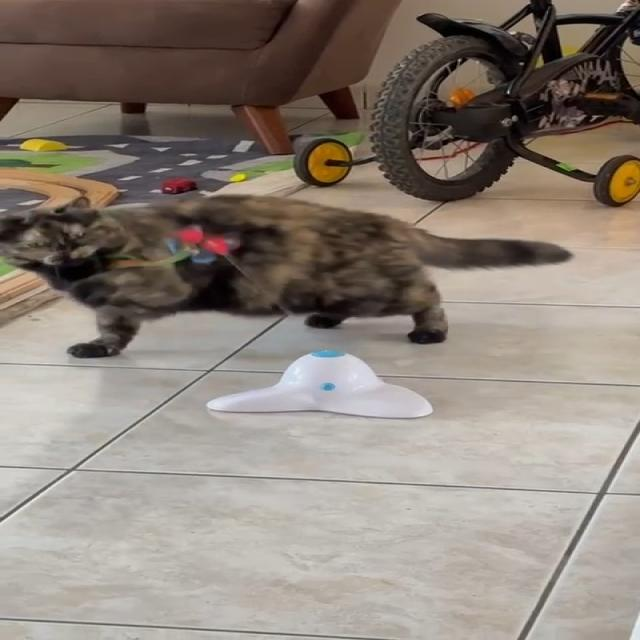authorized: (0, 192, 573, 358)
